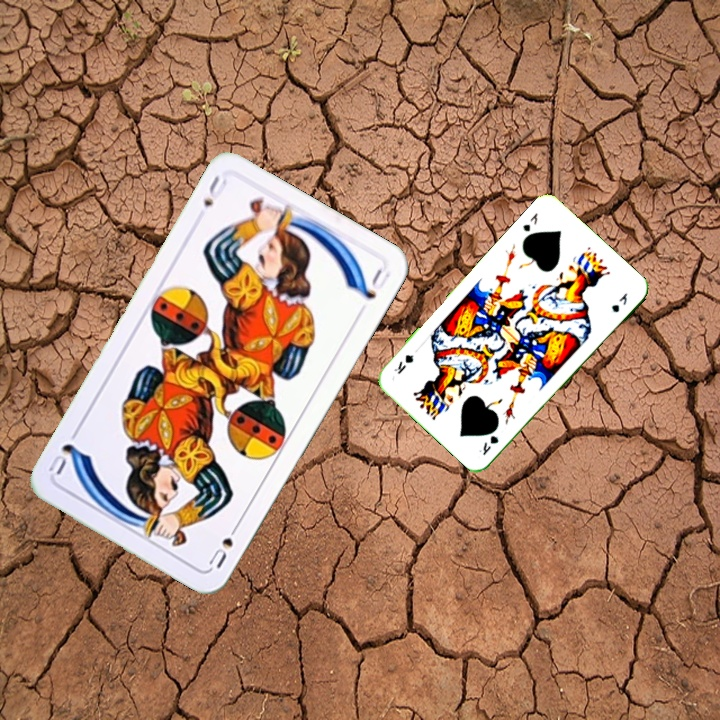GK: (475, 431, 502, 458), (519, 208, 541, 234)
SU: (204, 517, 243, 571), (199, 171, 230, 210)
